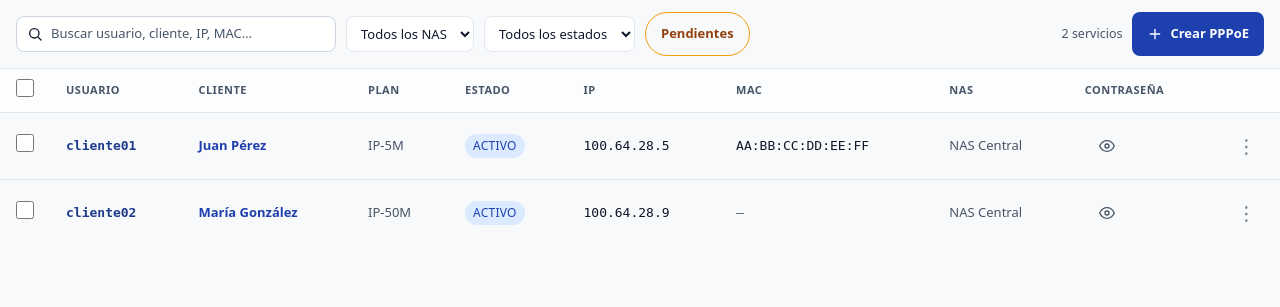
Scenario: PppoeManagementTab bulk — 5.4: selección múltiple › seleccionar la página marca todos los checkboxes de la página
Click the checkbox named "seleccionar todos de esta página" at (25, 88), box [16, 79, 34, 97]
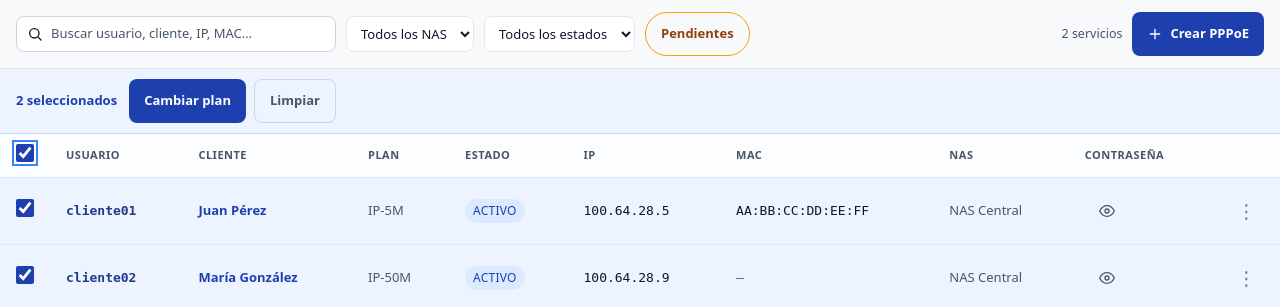
Result: the checkbox named "Seleccionar cliente01" is checked at [16, 199, 34, 217]
Result: the checkbox named "Seleccionar cliente02" is checked at [16, 266, 34, 284]
